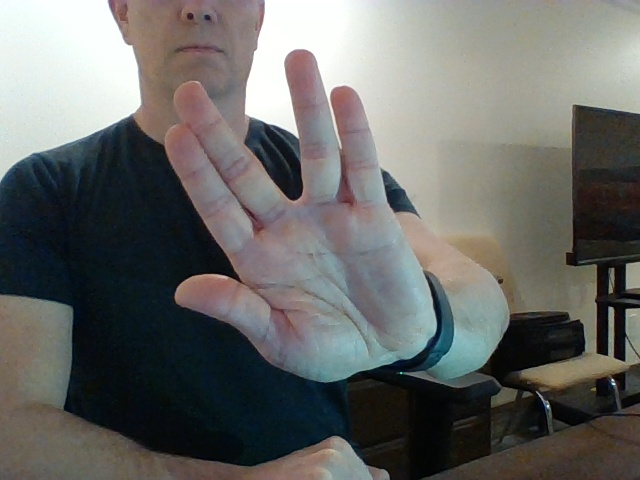LiveLong: (163, 49, 433, 384)
